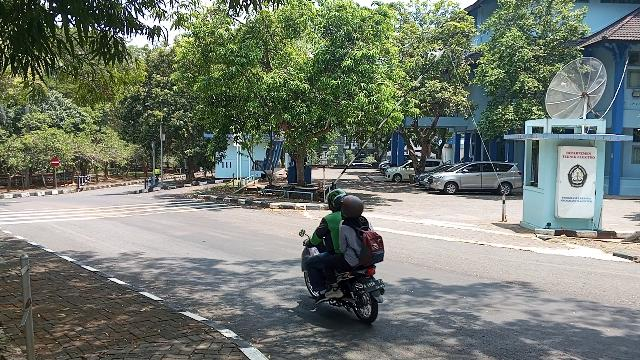helm: (336, 196, 365, 219), (327, 190, 346, 211)
motor: (305, 249, 386, 326)
